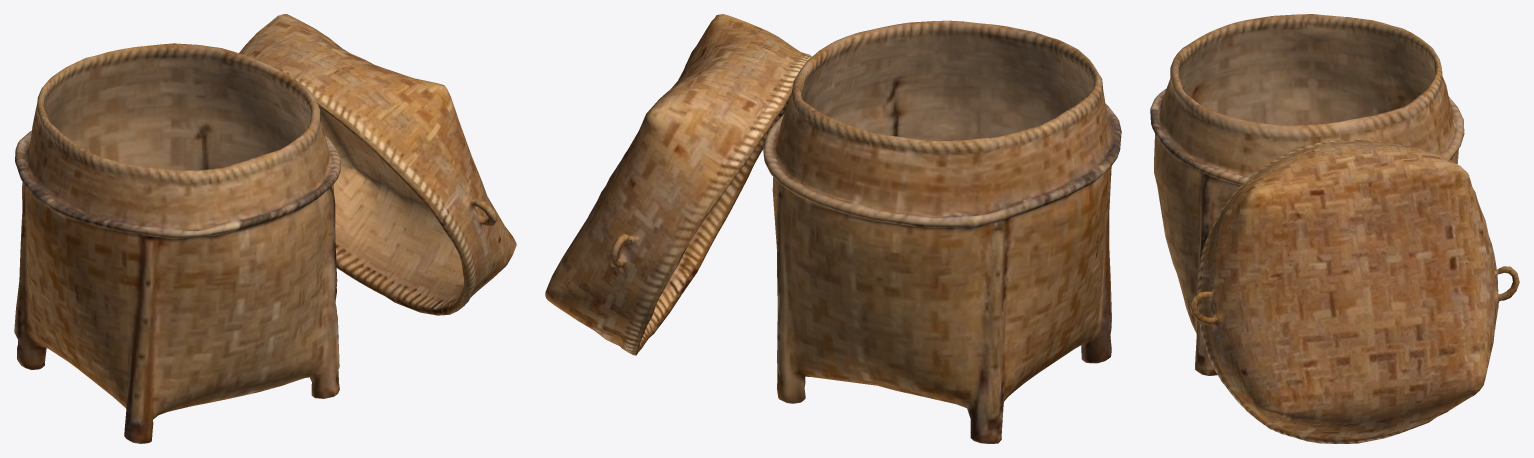
Rendered from ph2_wicker_basket_02.glb.
The picture shows the model from 3 angles, left to right: view 1: azimuth 30°, elevation 25°; view 2: azimuth 150°, elevation 25°; view 3: azimuth 270°, elevation 25°; orthographic projection. The views are drawn at different scales.
Size of the model in its own units: 0.3469 by 0.2005 by 0.2541.
Materials: 1 (1 with a texture image).
